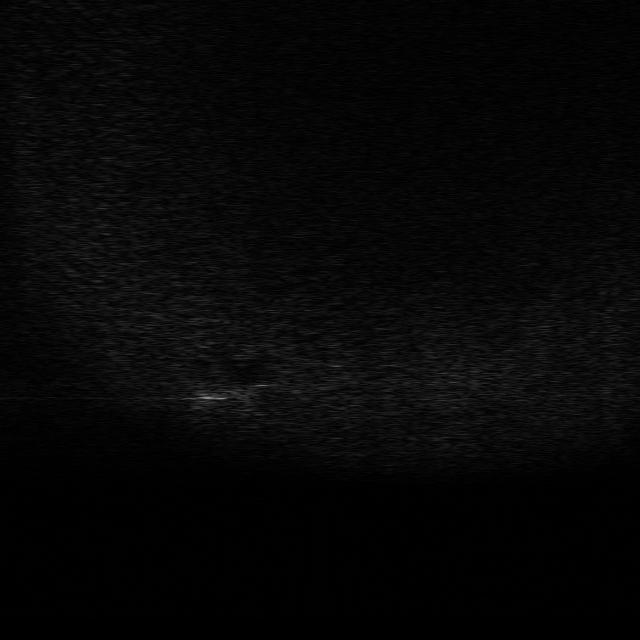plane: (178, 374, 272, 414)
